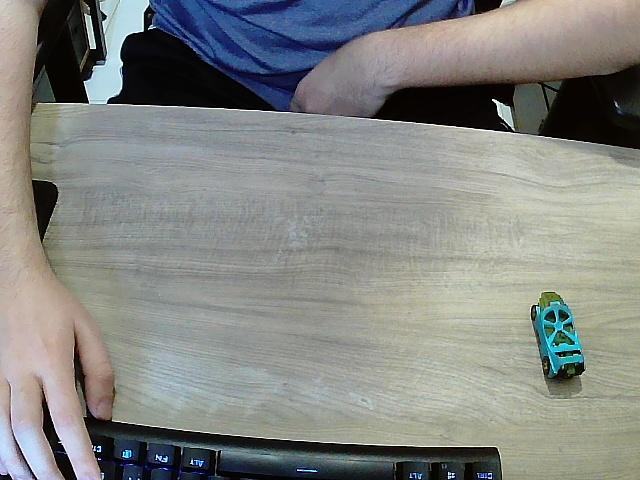Carro: (530, 292, 587, 384)
